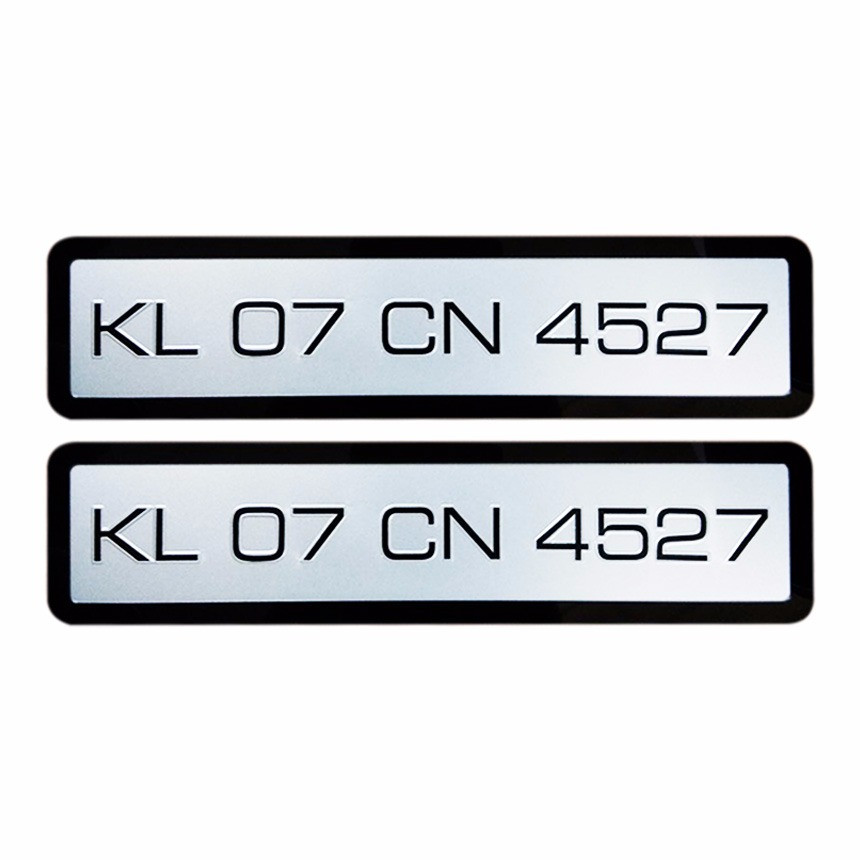number_plate: (46, 229, 816, 423), (50, 441, 814, 629)
